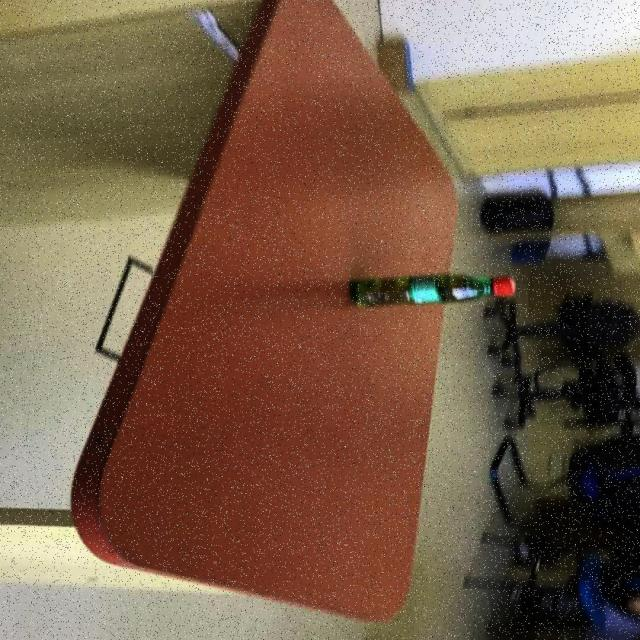Guarana: (69, 0, 503, 622), (347, 272, 515, 308)
